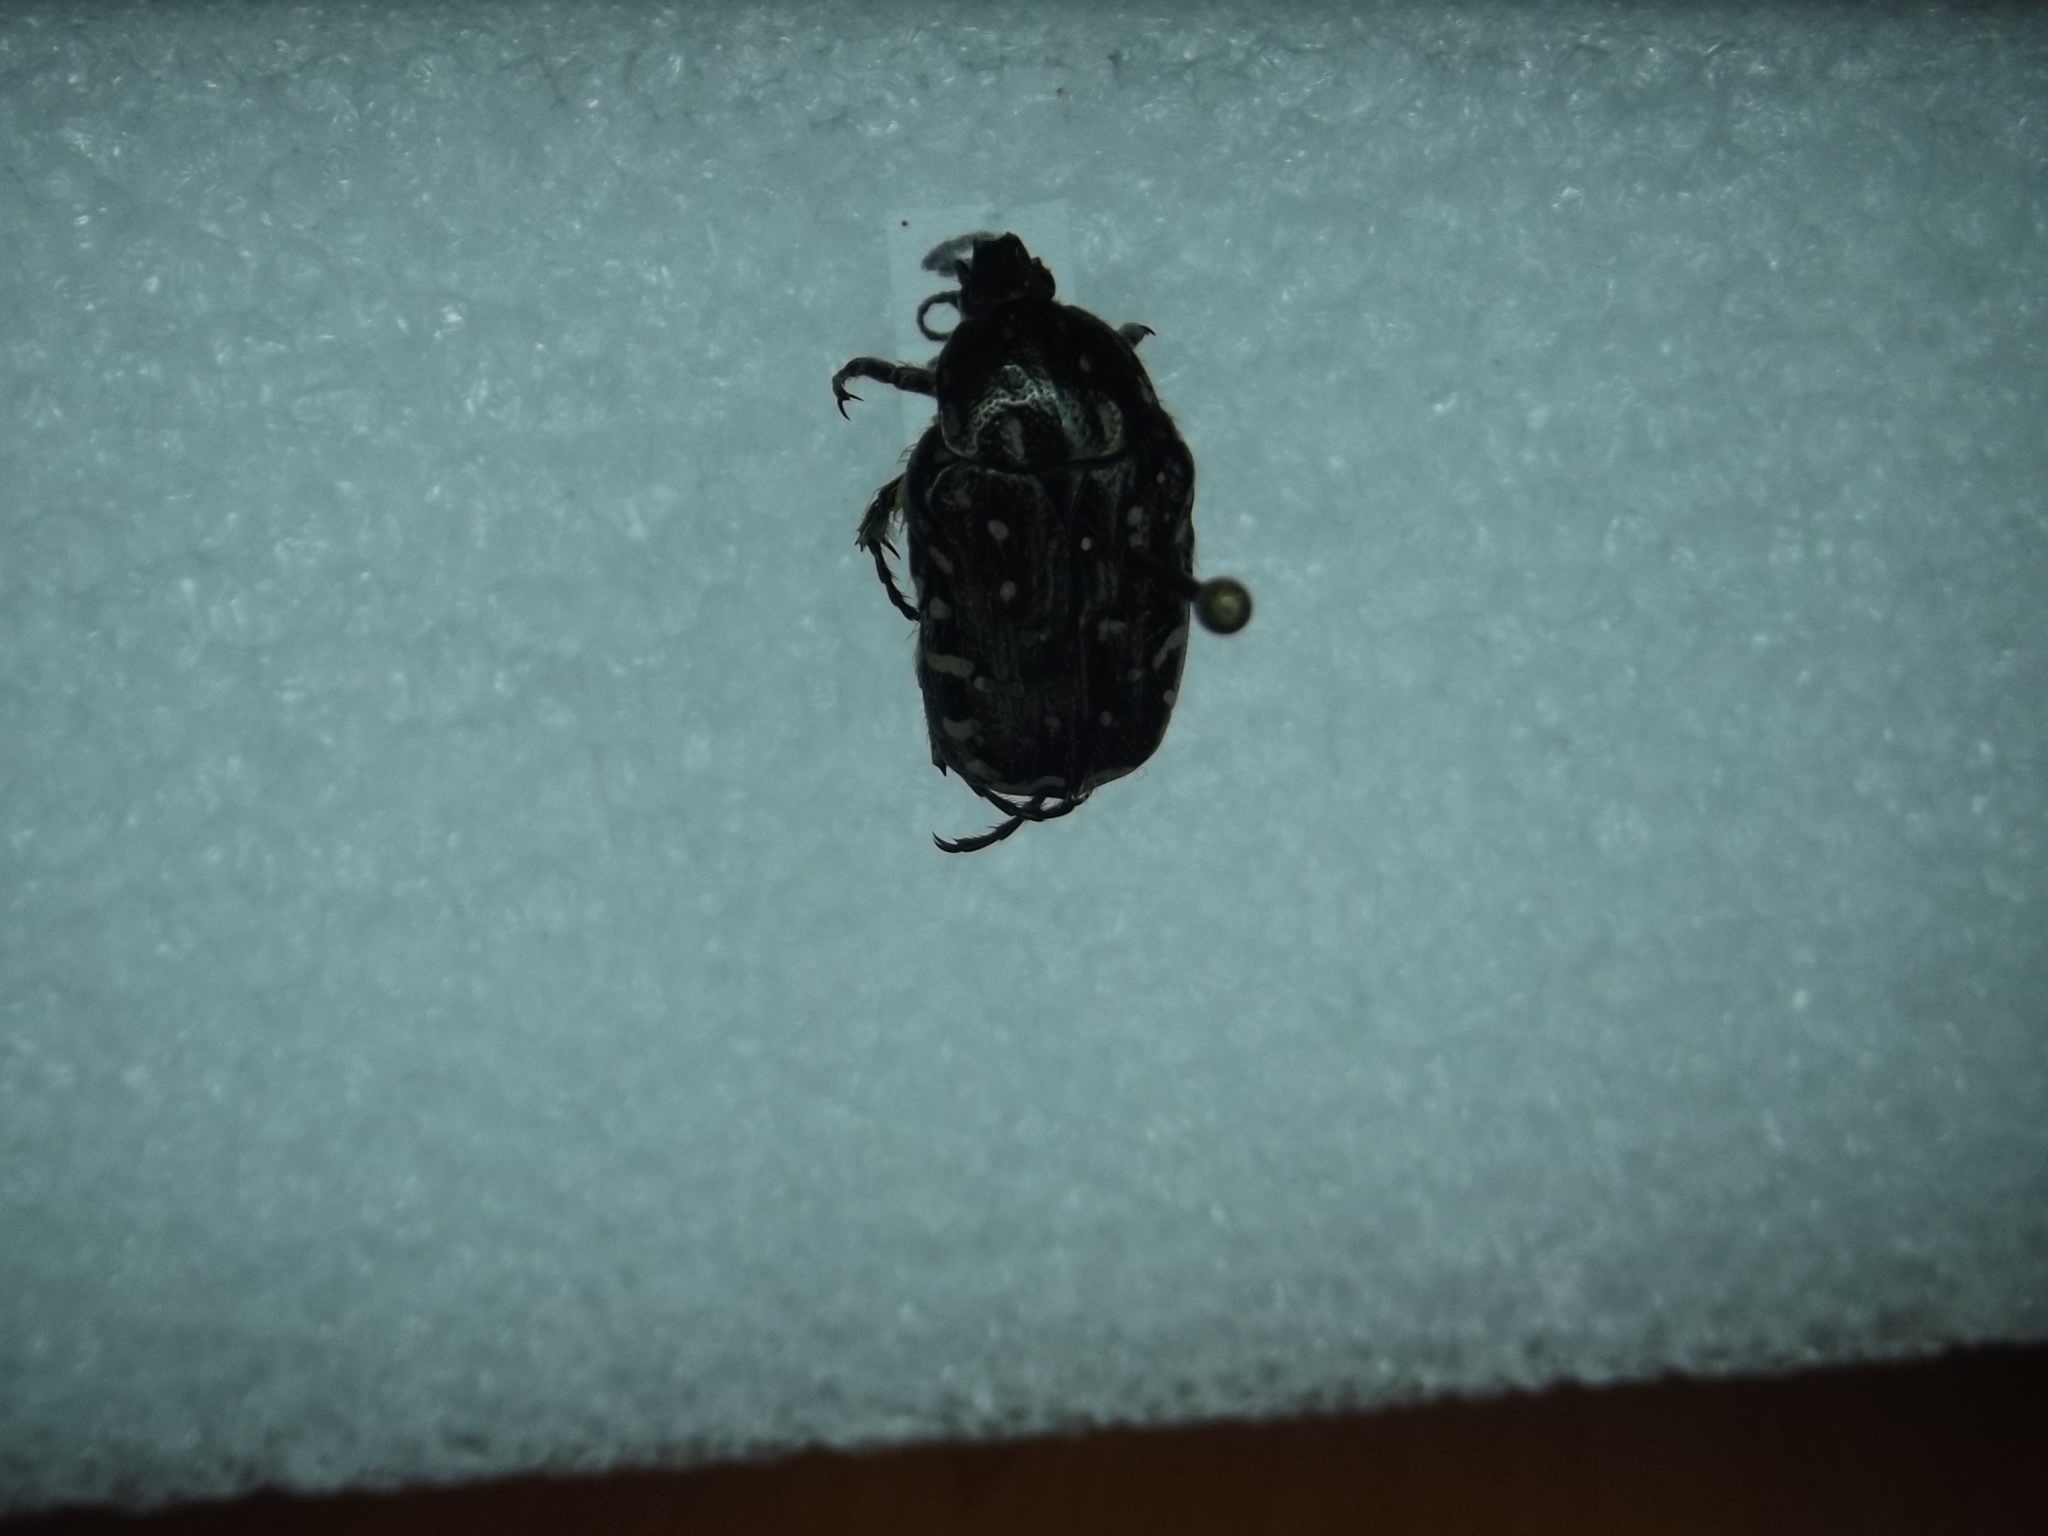Oxythyrea_funesta: (819, 203, 1205, 871)
